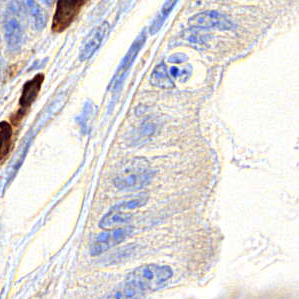Lymphocyte: (20, 72, 45, 110)
